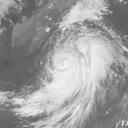cyclone: (42, 20, 126, 95)
